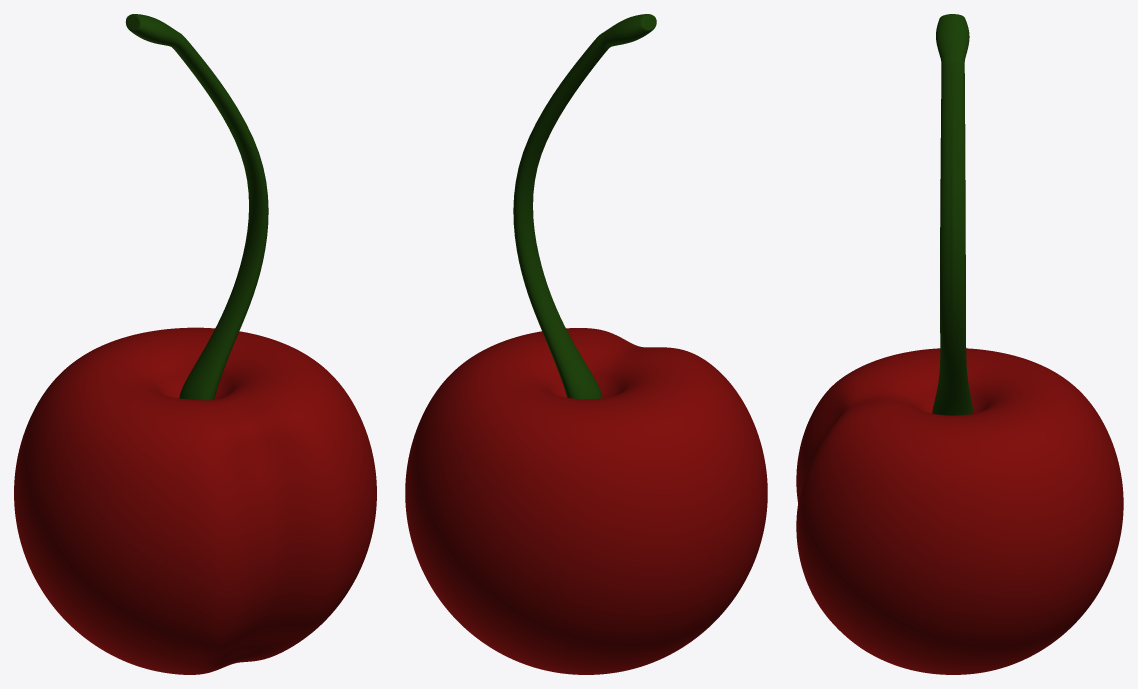
The model's file is CerezaColocada.fbx.
3 views of the same model, side by side, from view 1: azimuth 30°, elevation 25°; view 2: azimuth 150°, elevation 25°; view 3: azimuth 270°, elevation 25° (orthographic). The views are drawn at different scales.
Visible parts, largest first — view 1: Cereza; view 2: Cereza; view 3: Cereza.
Part boxes in pixels (left/top/right/bottom): Cereza: left=14, top=14, right=376, bottom=674; Cereza: left=405, top=14, right=767, bottom=674; Cereza: left=796, top=14, right=1123, bottom=674.
Bounding box in the file's own units: 87.25 × 171 × 83.63.
